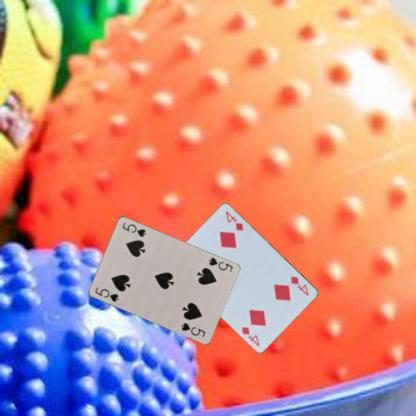4d: (288, 274, 310, 297)
5s: (92, 284, 119, 304), (206, 255, 234, 273)
